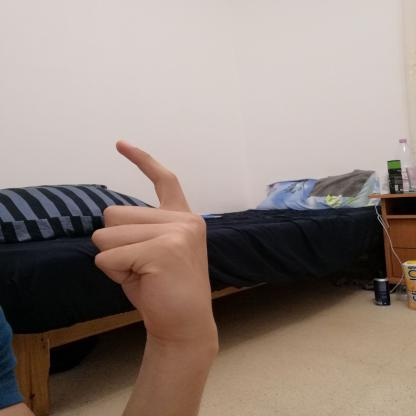RAA: (80, 132, 224, 340)
